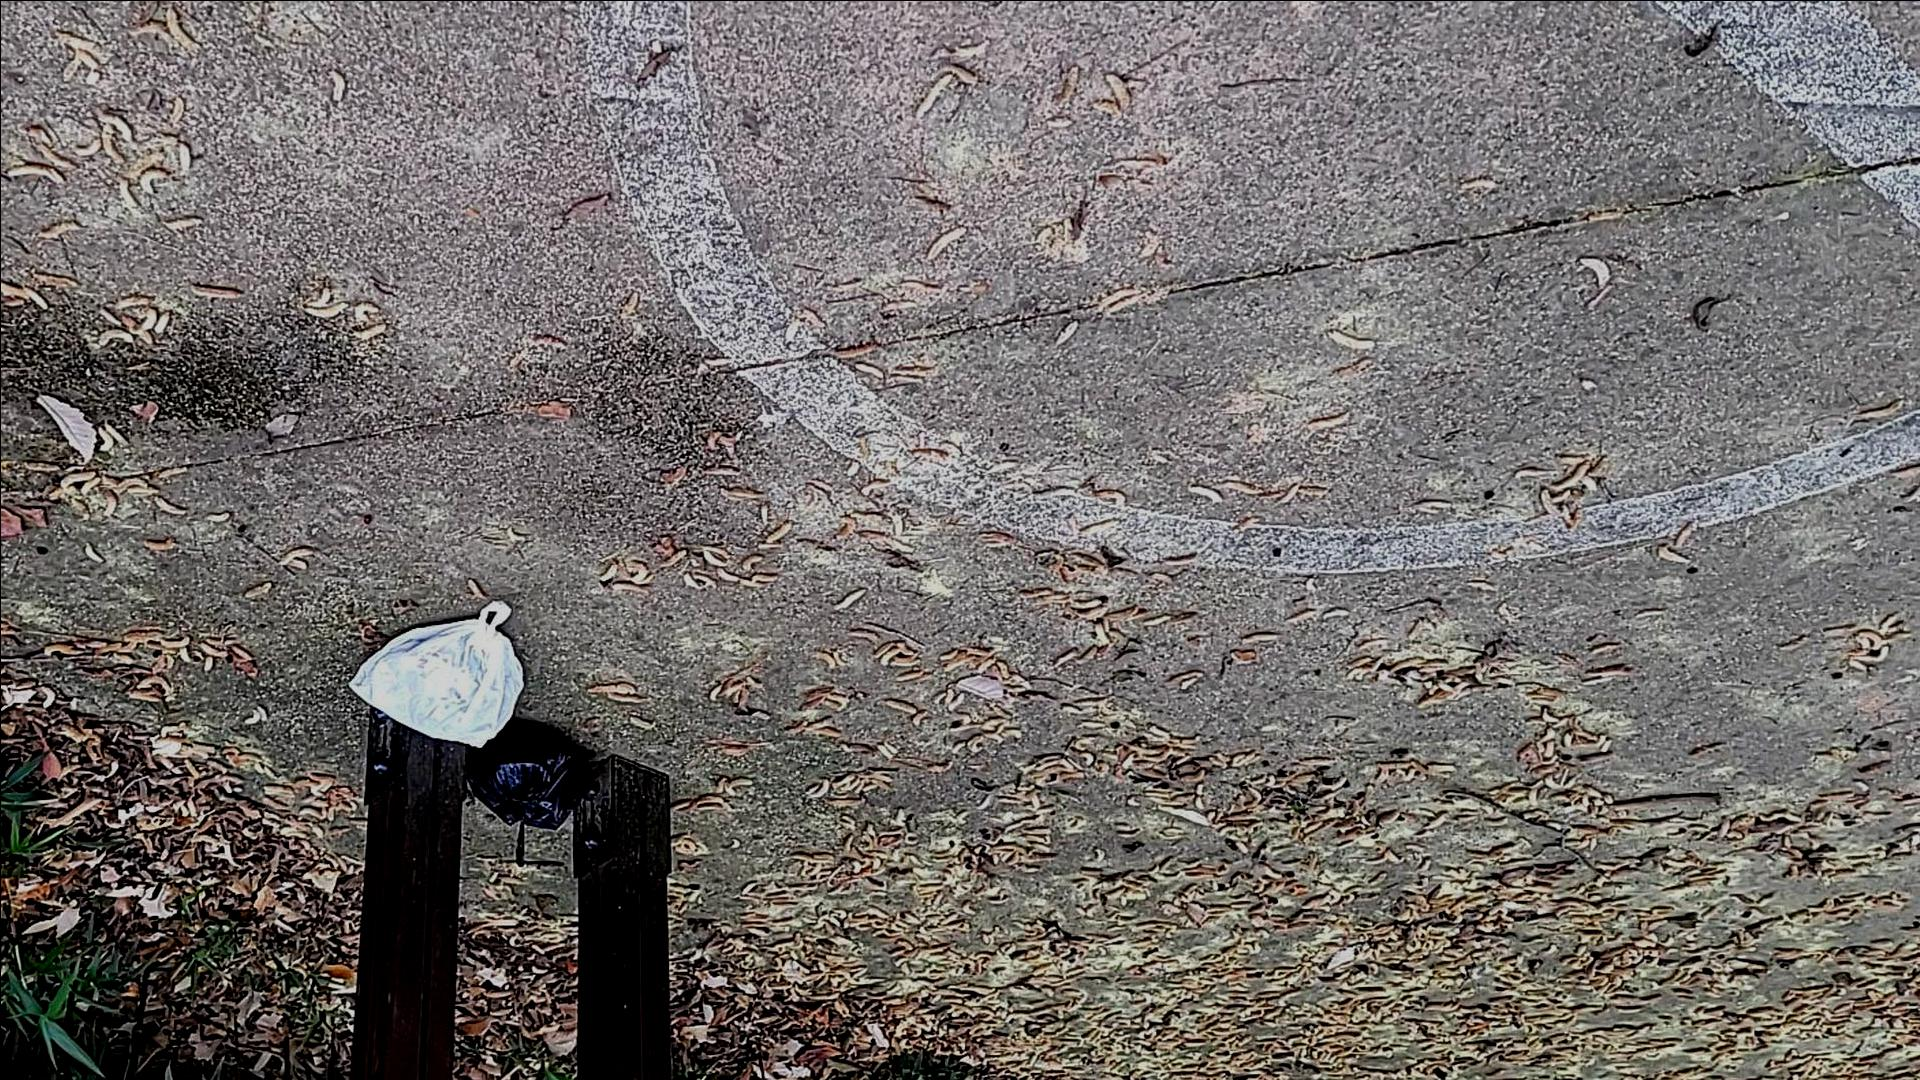black_bag: (462, 720, 603, 868)
white_bag: (345, 589, 527, 756)
